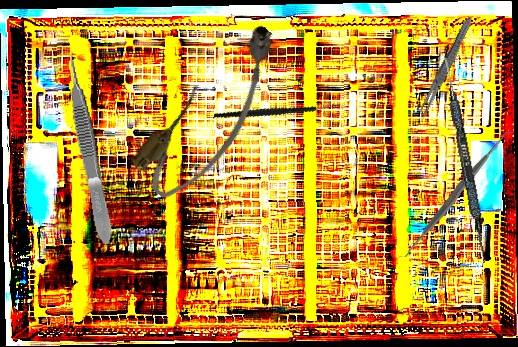Cannula: (124, 15, 304, 211)
Chopper: (213, 68, 336, 150)
Dressing Forceps: (415, 14, 476, 122)
Spatula Surgical: (395, 131, 517, 258), (435, 45, 494, 264)
Tissue Forceps: (62, 51, 116, 247)
